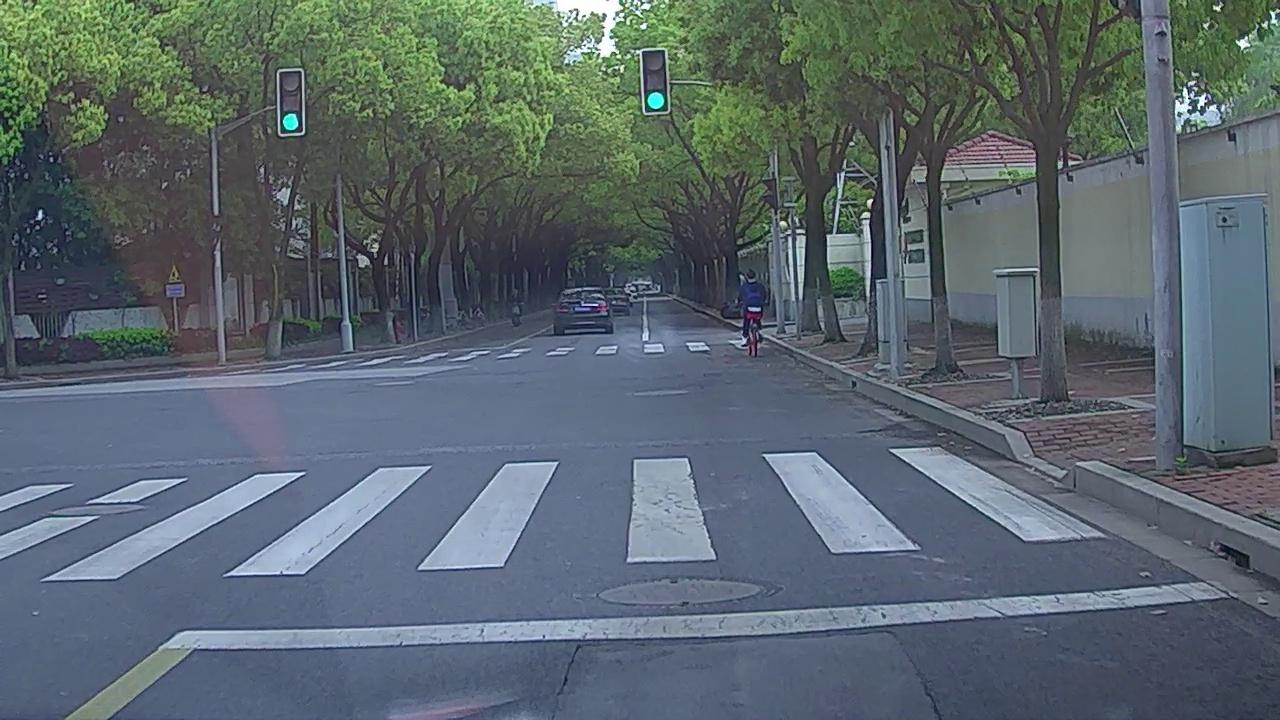traffic_light: (279, 71, 305, 135), (641, 52, 666, 113)
